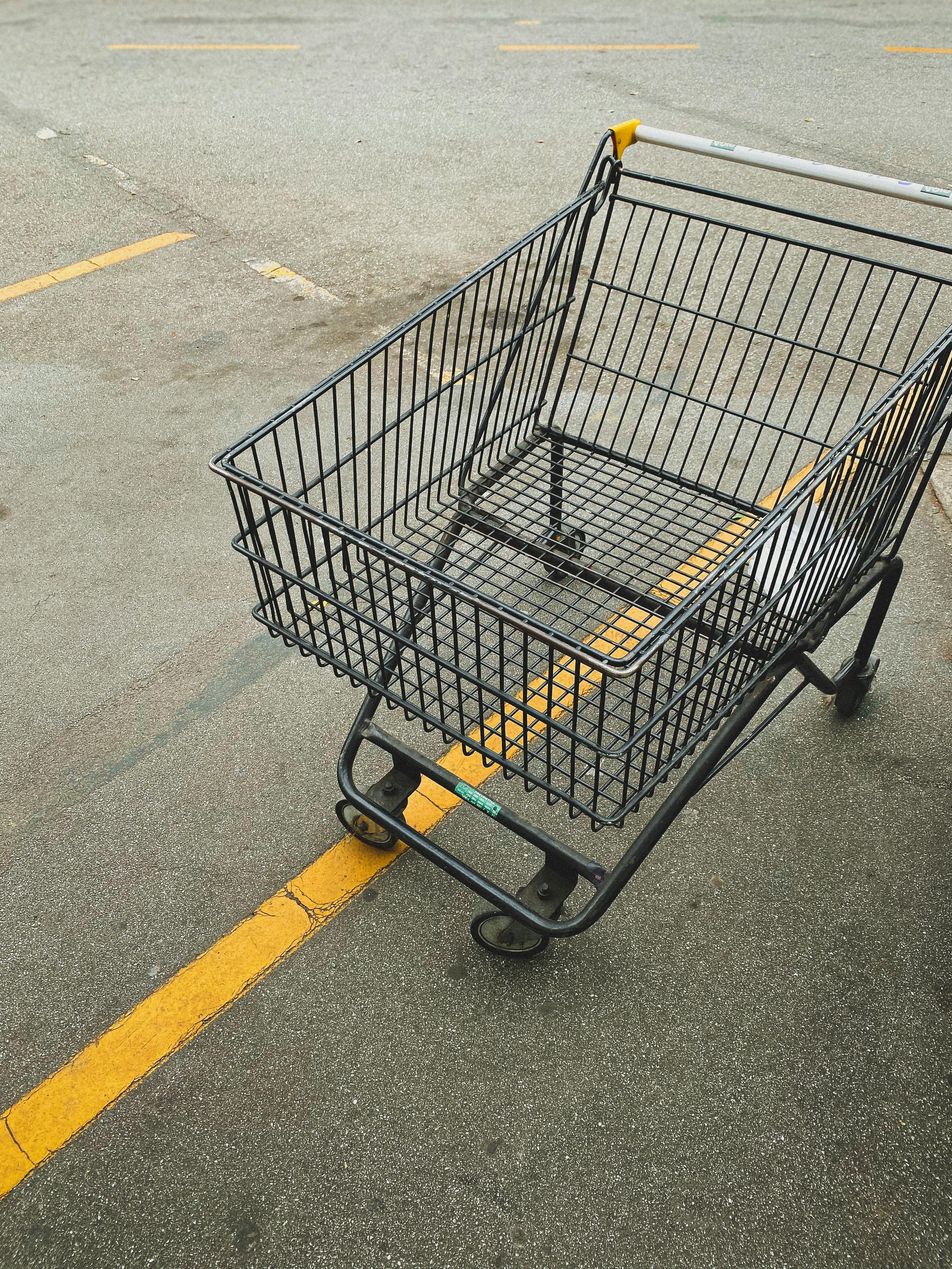shopping_cart: (191, 121, 952, 970)
